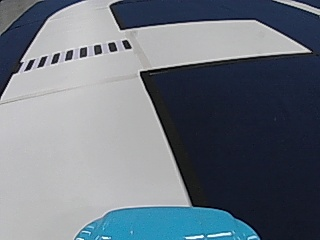CrossWalk: (20, 39, 135, 68)
